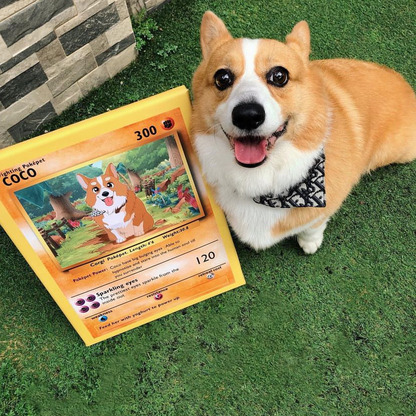Corgi: (186, 12, 369, 259)
